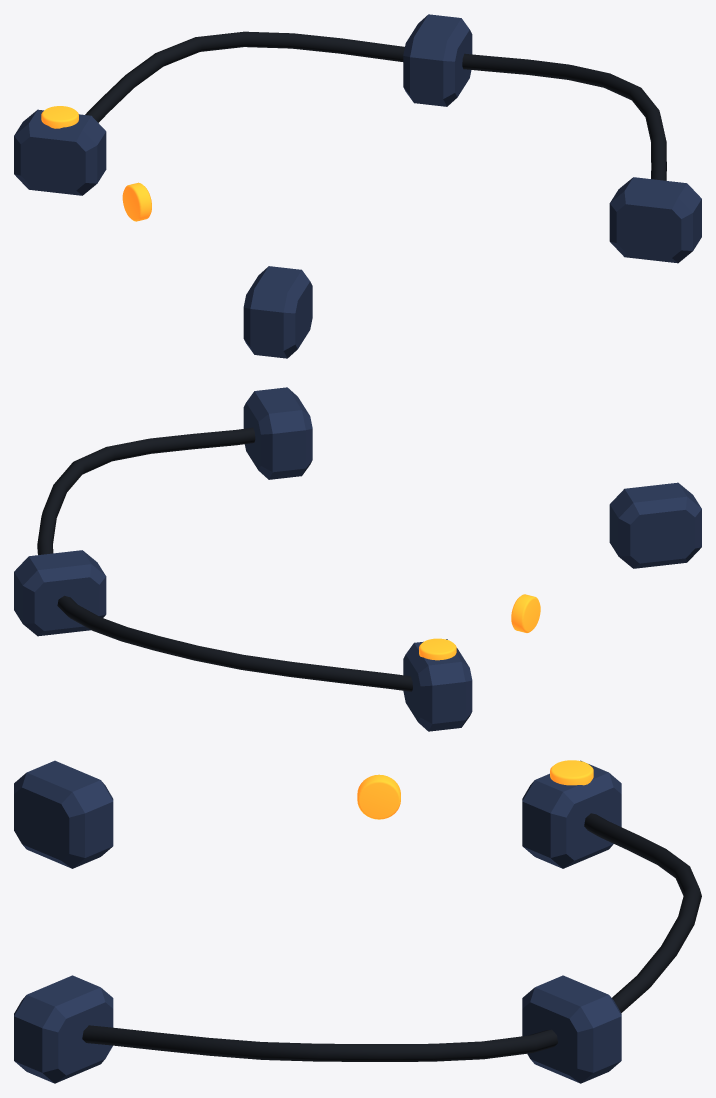
File: tower_overclock_network_s3.glb
3 views of the same model, one above another, from view 1: azimuth 30°, elevation 25°; view 2: azimuth 150°, elevation 25°; view 3: azimuth 270°, elevation 25° (orthographic). The views are drawn at different scales.
Parts seen in each view (by area): view 1: overclock_relay_cable, overclock_relay2, overclock_relay0, overclock_relay3, overclock_relay1, overclock_up_network_l3_stud, overclock_up_network_l2_stud; view 2: overclock_relay_cable, overclock_relay3, overclock_relay1, overclock_relay2, overclock_relay0, overclock_up_network_l3_stud, overclock_up_network_l2_stud; view 3: overclock_relay_cable, overclock_relay3, overclock_relay2, overclock_relay1, overclock_relay0, overclock_up_network_l3_stud, overclock_up_network_l2_stud.
Part boxes in pixels (x1=…): overclock_relay_cable: x1=85, y1=31, x2=666, y2=180; overclock_relay2: x1=609, y1=177, x2=701, y2=263; overclock_relay0: x1=14, y1=109, x2=106, y2=195; overclock_relay3: x1=243, y1=266, x2=312, y2=358; overclock_relay1: x1=403, y1=14, x2=472, y2=106; overclock_up_network_l3_stud: x1=122, y1=182, x2=151, y2=221; overclock_up_network_l2_stud: x1=41, y1=106, x2=78, y2=128; overclock_relay_cable: x1=37, y1=427, x2=412, y2=691; overclock_relay3: x1=609, y1=482, x2=701, y2=568; overclock_relay1: x1=14, y1=550, x2=106, y2=636; overclock_relay2: x1=243, y1=387, x2=312, y2=479; overclock_relay0: x1=403, y1=639, x2=472, y2=731; overclock_up_network_l3_stud: x1=511, y1=594, x2=540, y2=632; overclock_up_network_l2_stud: x1=419, y1=638, x2=456, y2=660; overclock_relay_cable: x1=82, y1=813, x2=701, y2=1061; overclock_relay3: x1=14, y1=760, x2=113, y2=868; overclock_relay2: x1=14, y1=975, x2=113, y2=1083; overclock_relay1: x1=522, y1=975, x2=621, y2=1083; overclock_relay0: x1=522, y1=760, x2=621, y2=868; overclock_up_network_l3_stud: x1=357, y1=774, x2=400, y2=819; overclock_up_network_l2_stud: x1=550, y1=760, x2=593, y2=785.
Bounding box in the file's own units: 0.8807 × 0.1198 × 0.8807.
